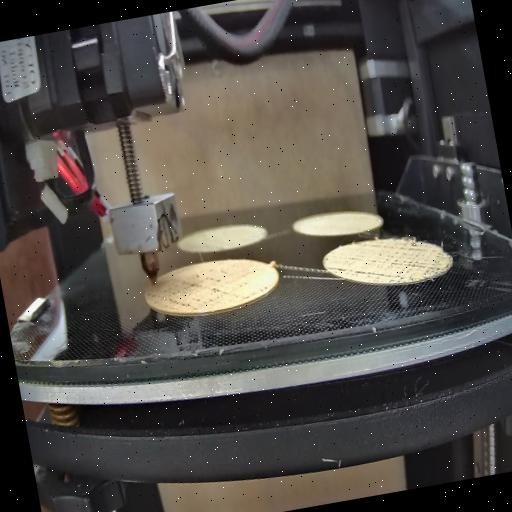under_extrusion: (346, 229, 450, 287), (142, 260, 239, 316), (242, 274, 272, 304), (322, 258, 348, 278)
